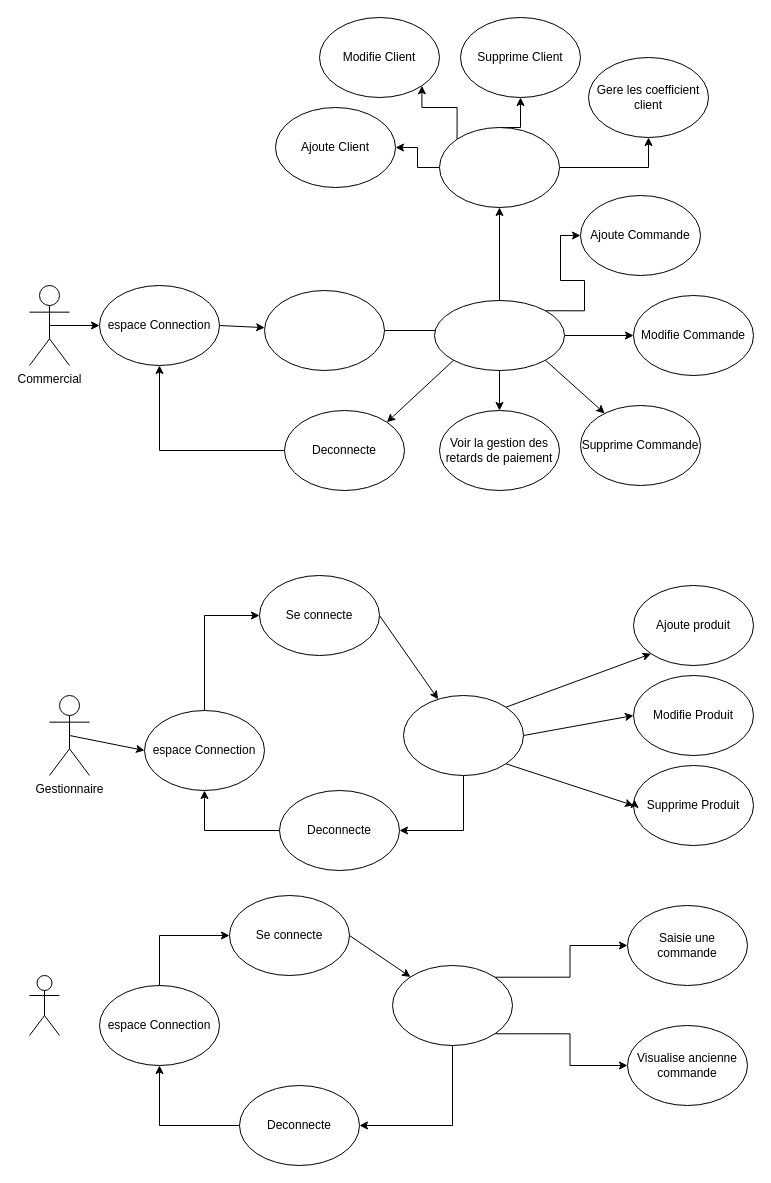
Image size: 771x1183. Some labels were removed from this diagram. The shapes that lost their labels are listed below. From the top down, each one's box as (x1, y1, x2, y2) in pixels, then its label:
(438, 126, 560, 208): Gestion des clients
(264, 290, 384, 370): Connecte
(434, 300, 564, 370): Voir la gestion des commandes
(402, 694, 524, 776): Voir la gestion des produits
(28, 974, 60, 1036): Client
(392, 964, 512, 1046): Voir le catalogue
